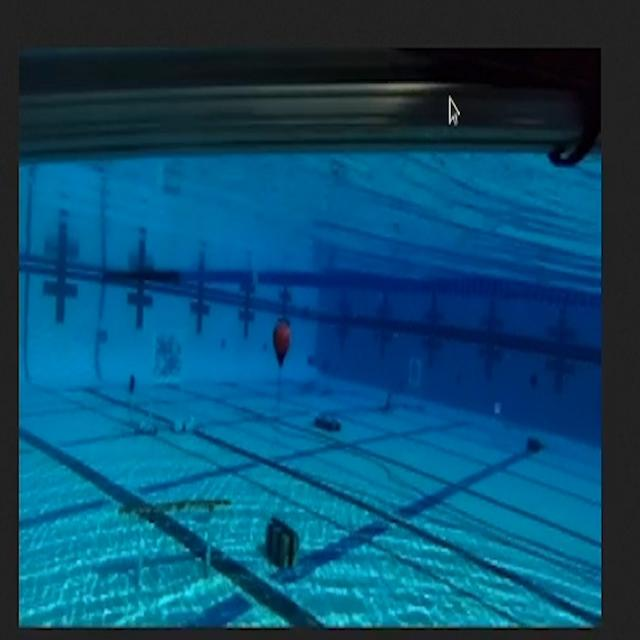Buoy: (264, 309, 299, 379)
Path: (98, 480, 238, 572)
